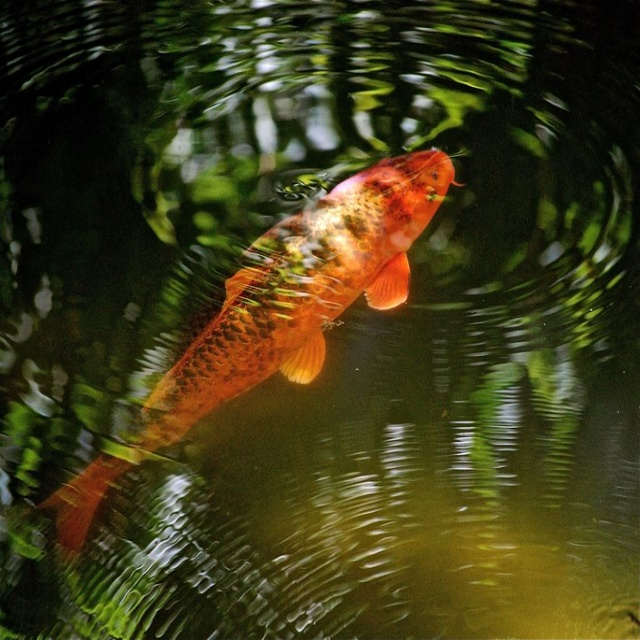Goldfish: (38, 148, 466, 556)
